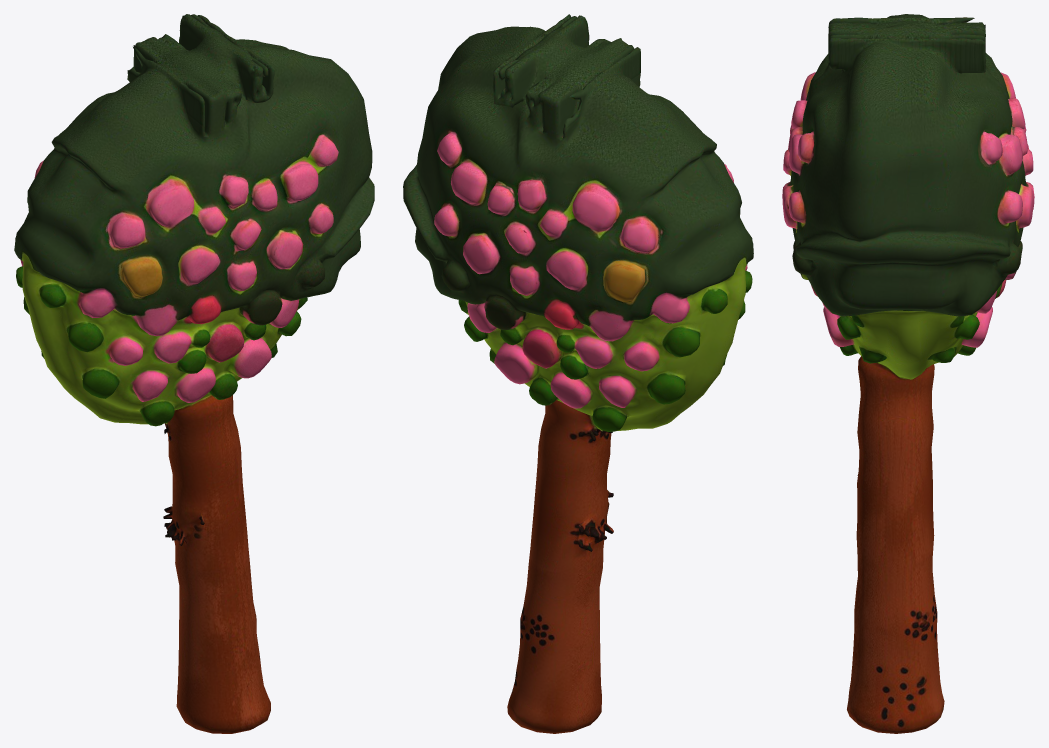
File: stylized-tree-b.glb
The picture shows the model from 3 angles, left to right: view 1: azimuth 30°, elevation 25°; view 2: azimuth 150°, elevation 25°; view 3: azimuth 270°, elevation 25°; orthographic projection. The views are drawn at different scales.
Parts seen in each view (by area): view 1: tripo_node_da7849b0-42ca-49cf-bb49-df2b139162d1; view 2: tripo_node_da7849b0-42ca-49cf-bb49-df2b139162d1; view 3: tripo_node_da7849b0-42ca-49cf-bb49-df2b139162d1.
Boxes of the visible parts, x1=… form: tripo_node_da7849b0-42ca-49cf-bb49-df2b139162d1: x1=14, y1=14, x2=374, y2=733; tripo_node_da7849b0-42ca-49cf-bb49-df2b139162d1: x1=403, y1=14, x2=753, y2=733; tripo_node_da7849b0-42ca-49cf-bb49-df2b139162d1: x1=782, y1=14, x2=1034, y2=733.
Size of the model in its own units: 0.4904 by 0.9787 by 0.3221.
Materials: 1 (1 with a texture image).
